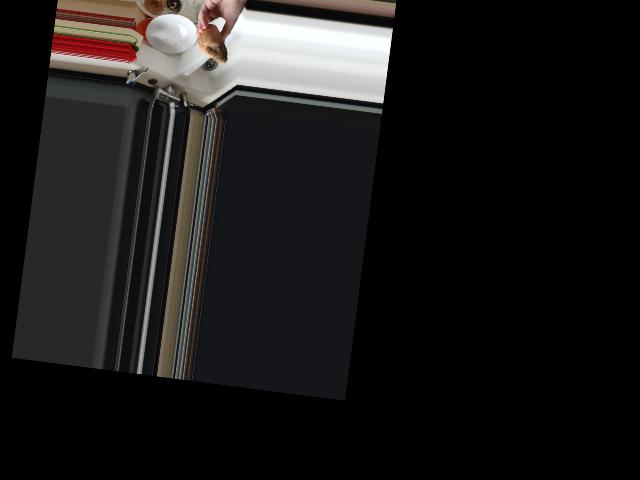sweet_potato: (194, 22, 234, 64)
